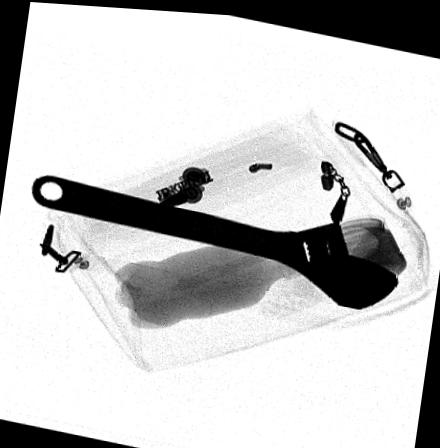Wrench: (30, 171, 399, 305)
